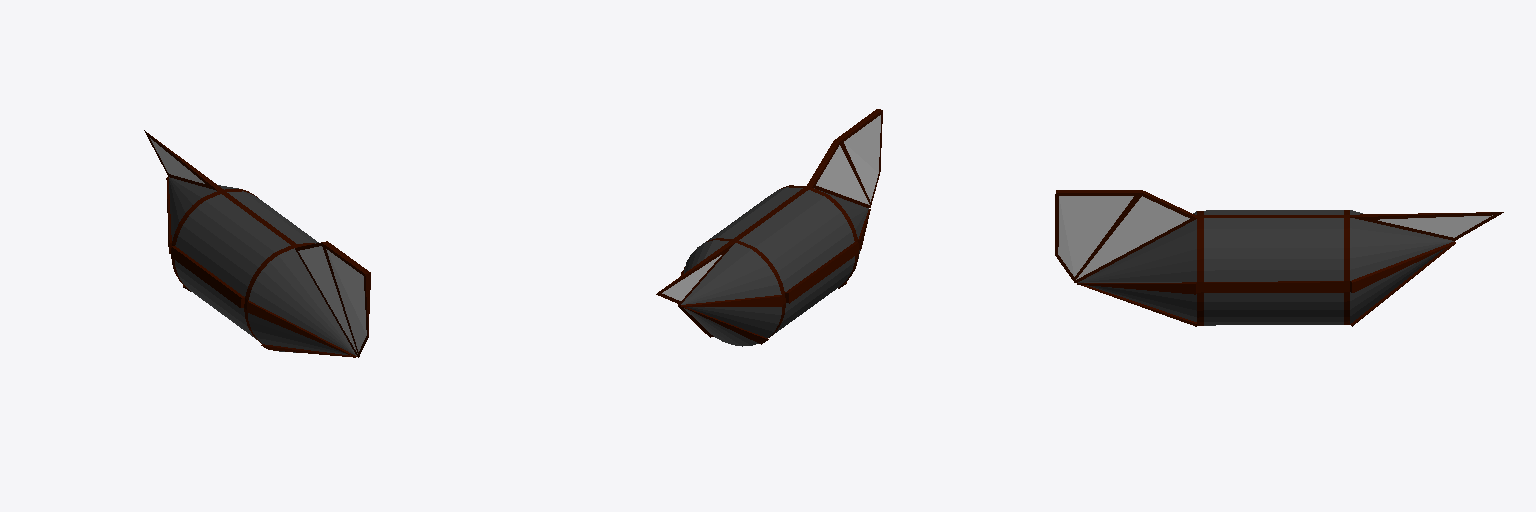
Rendered from cruiser.obj.
The picture shows the model from 3 angles: view 1: azimuth 30°, elevation 25°; view 2: azimuth 150°, elevation 25°; view 3: azimuth 270°, elevation 25°; orthographic projection.
Parts seen in each view (by area): view 1: Cylinder; view 2: Cylinder; view 3: Cylinder.
Boxes of the visible parts, x1,y1,x2,y2 form: Cylinder: [144, 130, 370, 357]; Cylinder: [656, 109, 882, 346]; Cylinder: [1055, 190, 1503, 326].
Bounding box in the file's own units: 1.44 × 1.67 × 5.27.